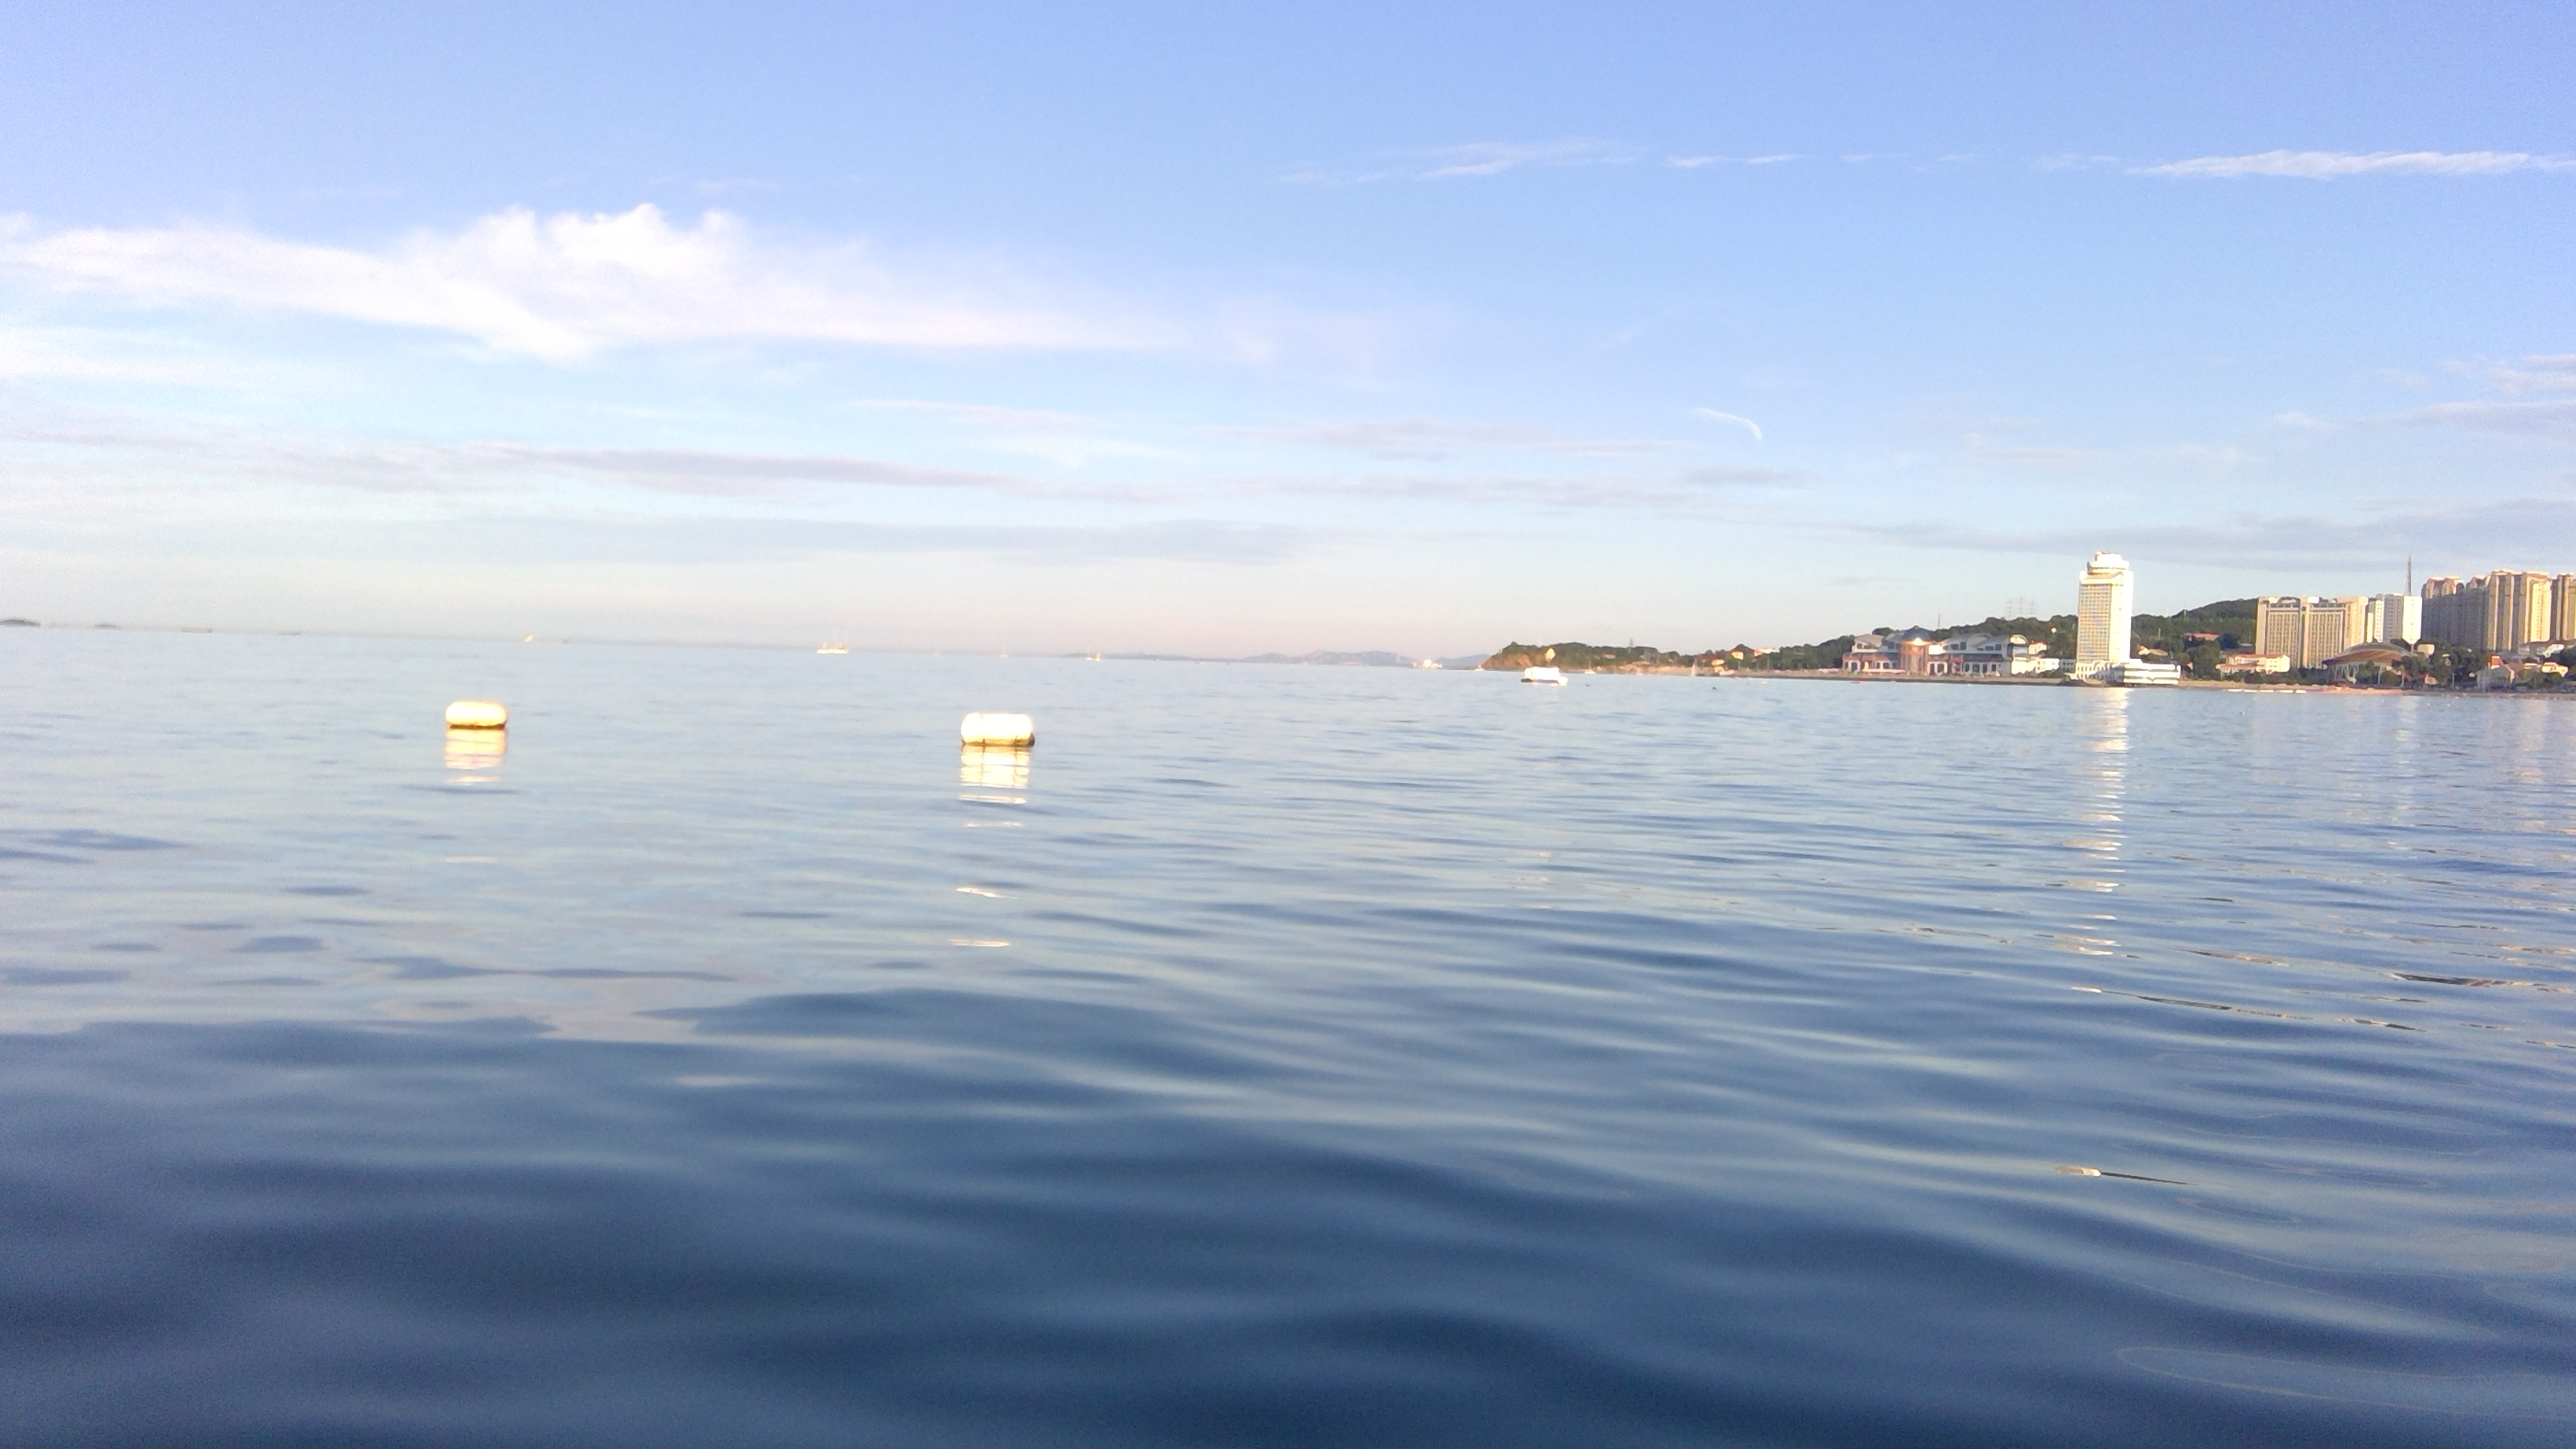ball: (950, 697, 1049, 768), (444, 688, 517, 734)
